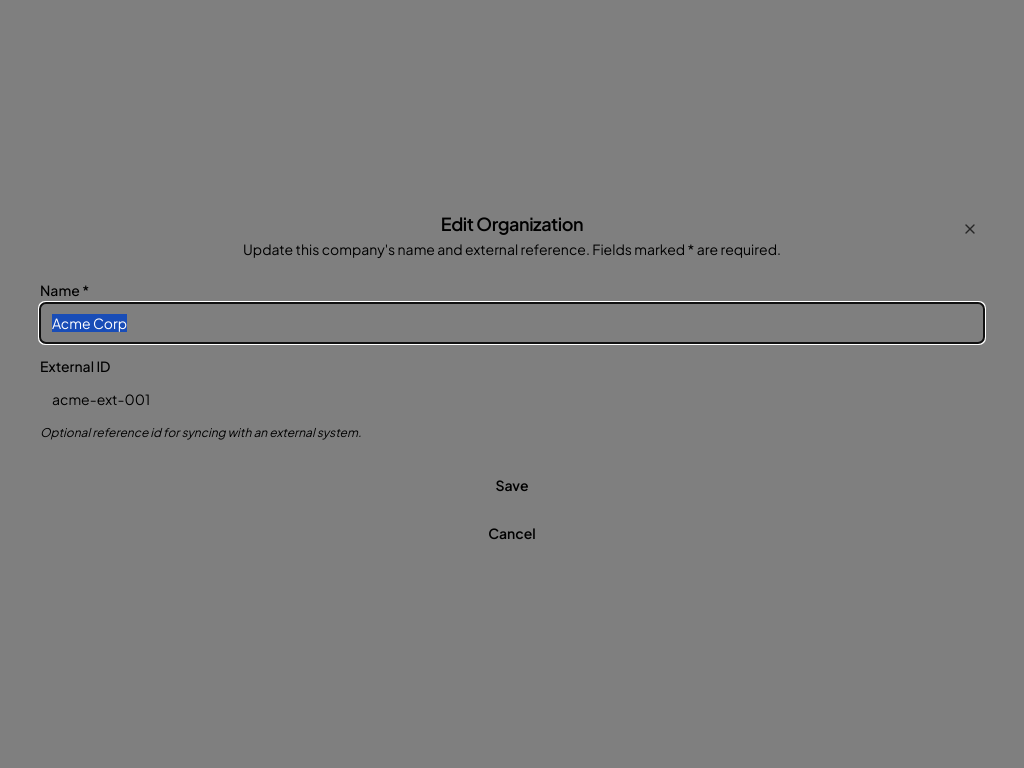
it: EditOrganizationModal › responsive in-flight state locks only submit and leaves inputs and cancel available
The width and height of the screenshot is (1024, 768).
Click the button "Save". click: {"x": 512, "y": 485}
box: [40,465,984,505]
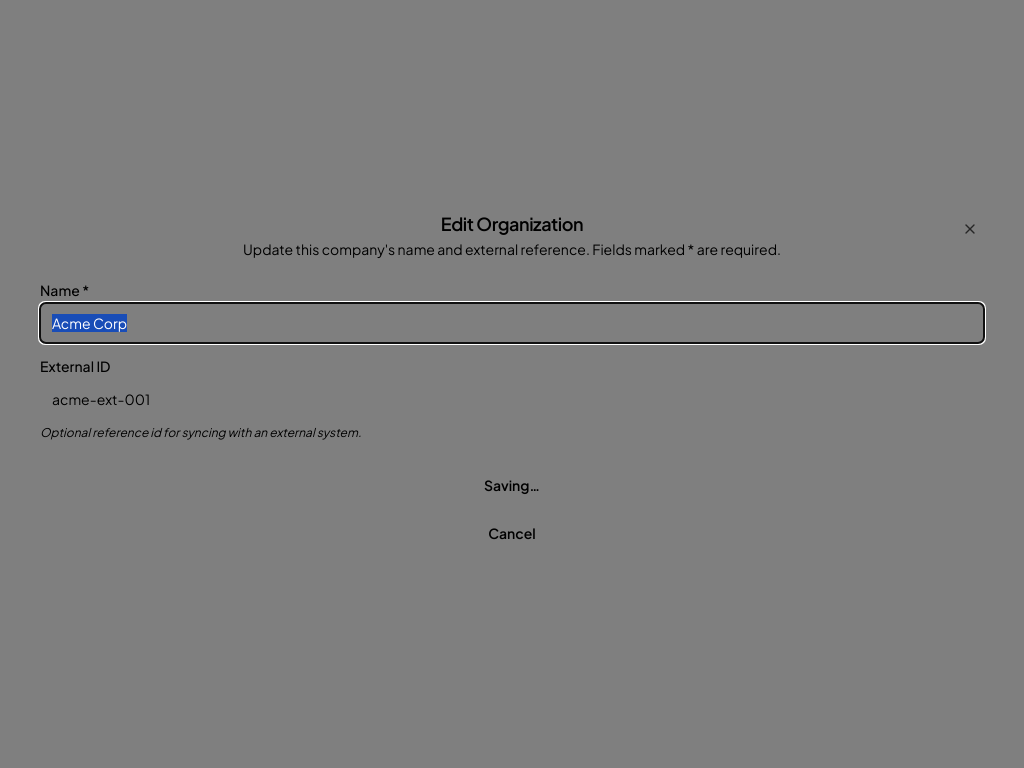
Expected: the field labelled "Name *" is enabled, [40,303,984,343]
Result: the button "Saving…" is disabled at [40,465,984,505]
